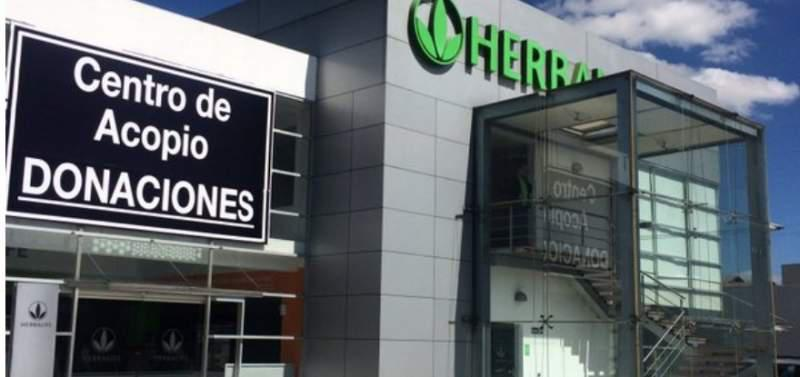affected: (0, 0, 796, 377)
